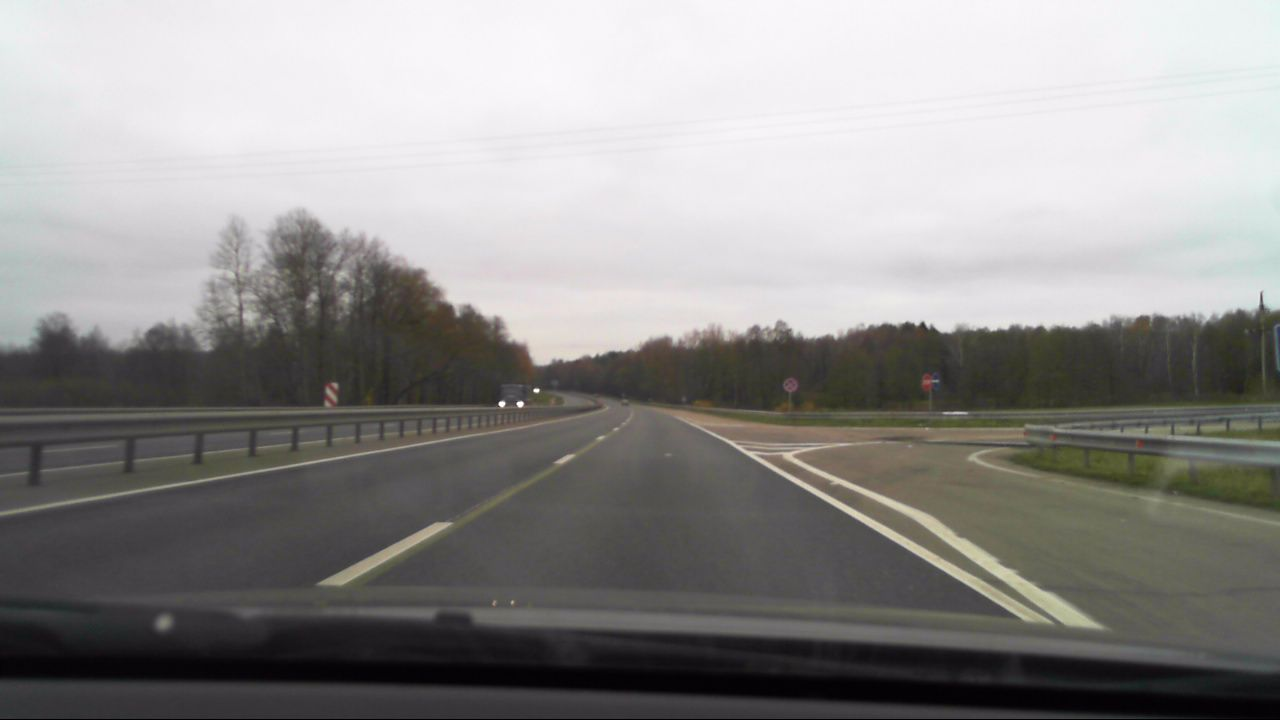No Parking: (781, 374, 802, 395)
